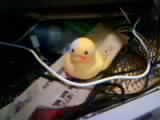duck: (63, 37, 98, 81)
